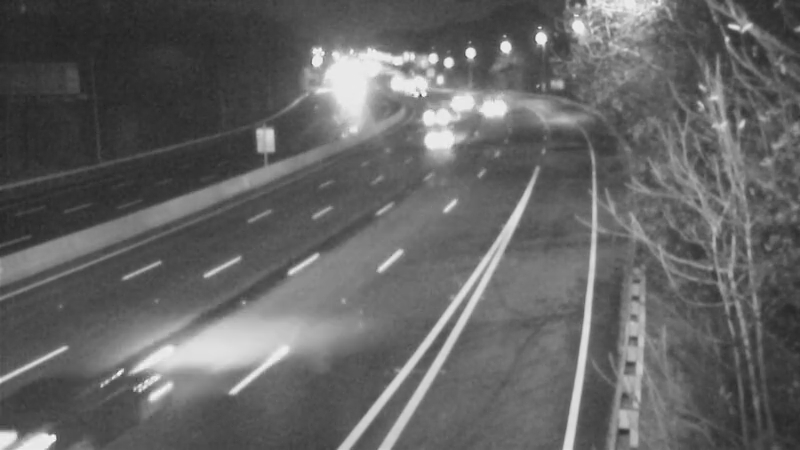vehicle: (1, 360, 94, 450), (438, 70, 488, 120), (462, 80, 512, 130), (403, 90, 453, 140), (410, 112, 460, 162)
